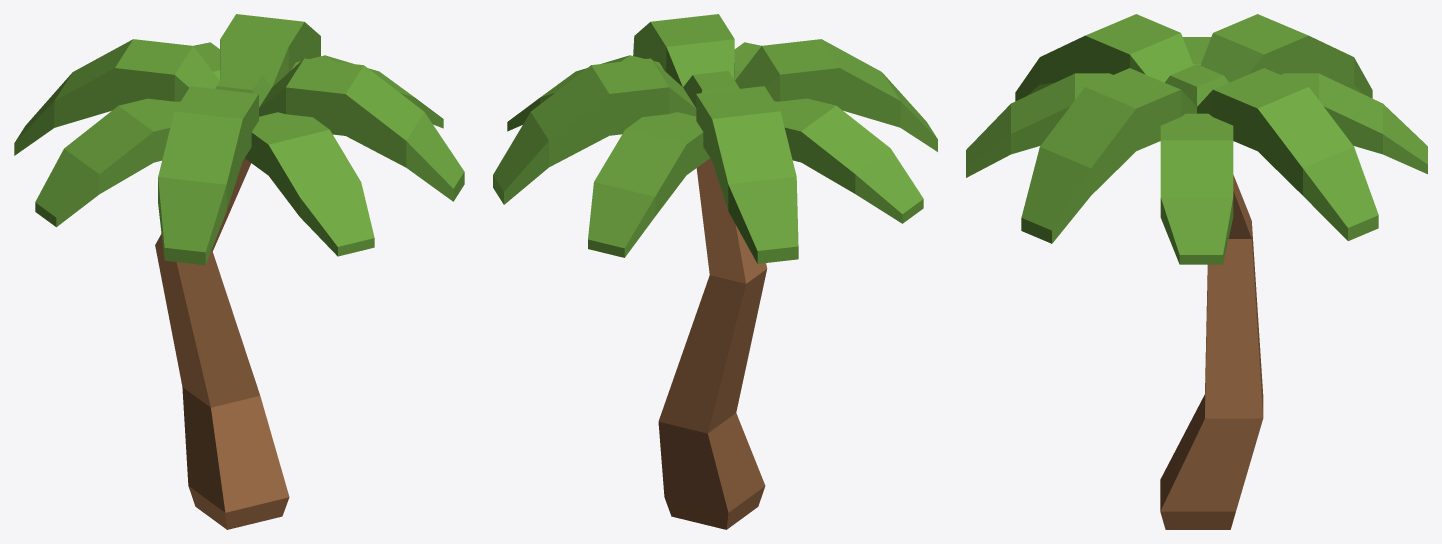
Rendered from tree_palmDetailedShort.glb.
3 renders of one model, left to right at view 1: azimuth 30°, elevation 25°; view 2: azimuth 150°, elevation 25°; view 3: azimuth 270°, elevation 25°, orthographic. The views are drawn at different scales.
Visible parts, largest first — view 1: leafs (×2), tree_palmDetailedShort; view 2: leafs (×2), tree_palmDetailedShort; view 3: leafs (×2), tree_palmDetailedShort.
Part boxes in pixels (x1=…): leafs (×2): x1=14, y1=14, x2=464, y2=265; tree_palmDetailedShort: x1=155, y1=158, x2=289, y2=529; leafs (×2): x1=493, y1=14, x2=937, y2=263; tree_palmDetailedShort: x1=658, y1=158, x2=767, y2=529; leafs (×2): x1=966, y1=14, x2=1427, y2=264; tree_palmDetailedShort: x1=1160, y1=175, x2=1263, y2=529.
Size of the model in its own units: 1.03 by 1.12 by 1.03.
